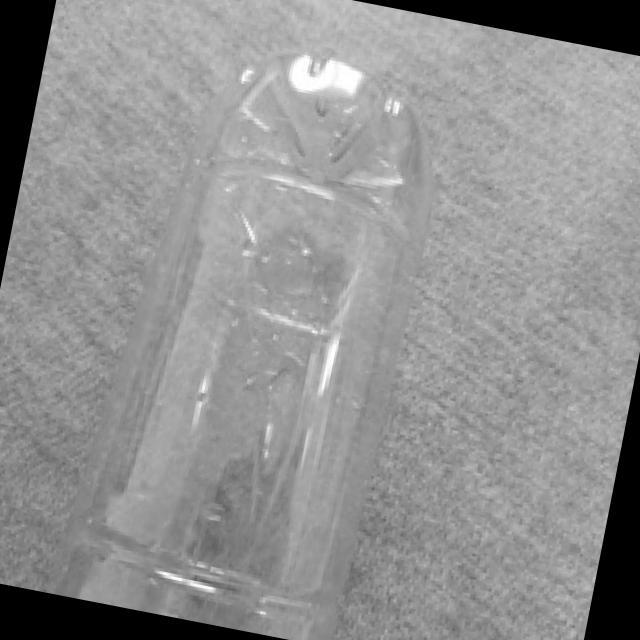good: (51, 15, 478, 640)
